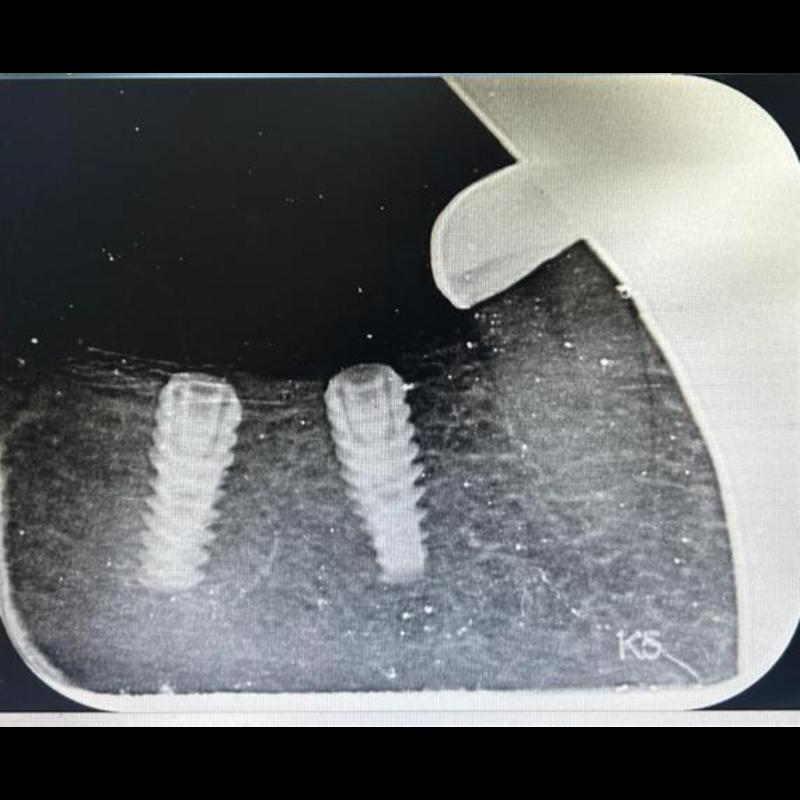osstem: (328, 357, 435, 600), (138, 374, 250, 584)
